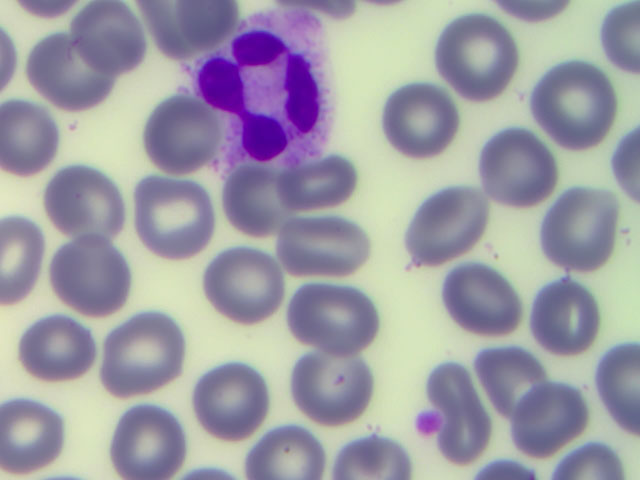Platelets: (417, 413, 439, 435)
RBC: (543, 191, 623, 280), (291, 287, 382, 359), (138, 180, 214, 265), (443, 20, 519, 104), (53, 239, 130, 316), (1, 402, 77, 480), (541, 64, 608, 150), (405, 193, 486, 264), (227, 164, 306, 235), (444, 267, 520, 340), (49, 172, 127, 243), (385, 89, 456, 165), (288, 351, 365, 418), (480, 351, 557, 418), (210, 254, 280, 327), (33, 41, 106, 111), (143, 107, 217, 176), (536, 282, 602, 359), (100, 324, 180, 387), (440, 369, 495, 460), (506, 388, 585, 451), (483, 137, 552, 207), (119, 410, 187, 480), (73, 1, 141, 69), (25, 318, 97, 382), (196, 367, 260, 437), (281, 218, 363, 272), (1, 100, 55, 181), (141, 2, 219, 47), (282, 163, 357, 207), (253, 434, 322, 480), (604, 344, 640, 431), (2, 221, 41, 301), (601, 5, 640, 81), (339, 439, 409, 480), (612, 126, 640, 204), (567, 444, 623, 480)
WBC: (212, 21, 341, 159)
